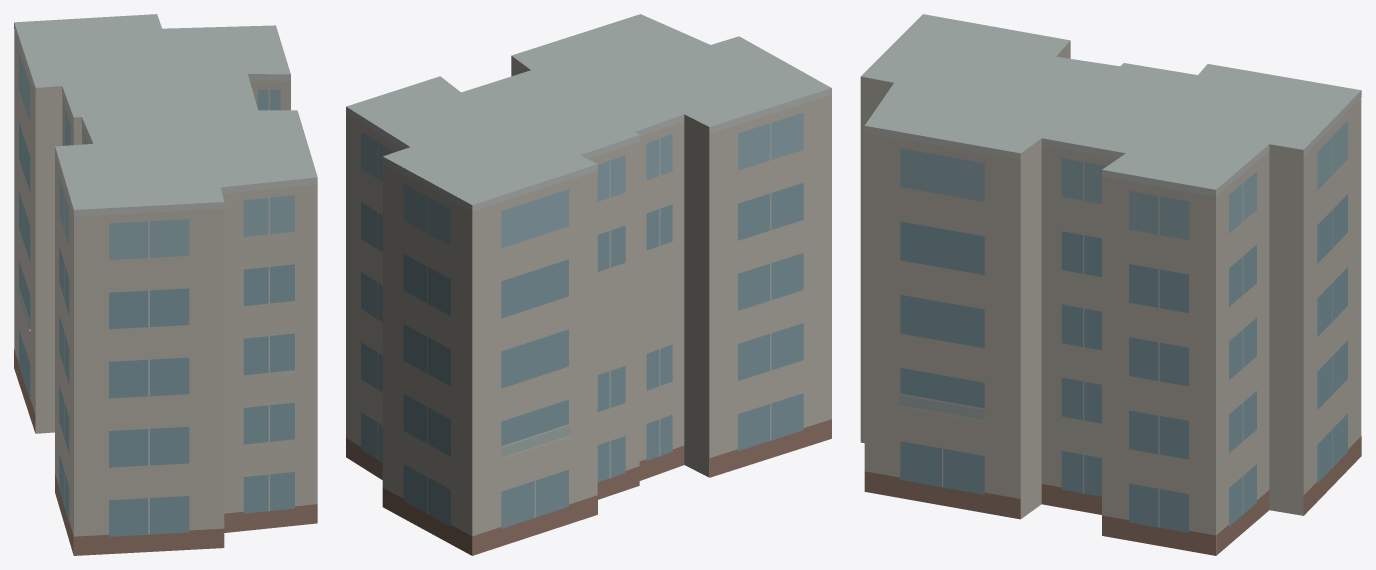
File: survey-upis-32914391.glb
The picture shows the model from 3 angles, left to right: view 1: azimuth 30°, elevation 25°; view 2: azimuth 150°, elevation 25°; view 3: azimuth 270°, elevation 25°; orthographic projection. The views are drawn at different scales.
Visible parts, largest first — view 1: survey-upis-32914391.tmp; view 2: survey-upis-32914391.tmp; view 3: survey-upis-32914391.tmp.
Part boxes in pixels (box(x1,y1,x2,y2)): survey-upis-32914391.tmp: box(14, 14, 317, 555); survey-upis-32914391.tmp: box(346, 14, 831, 555); survey-upis-32914391.tmp: box(860, 14, 1361, 555).
Bounding box in the file's own units: 13.3 × 12.9 × 16.01.
